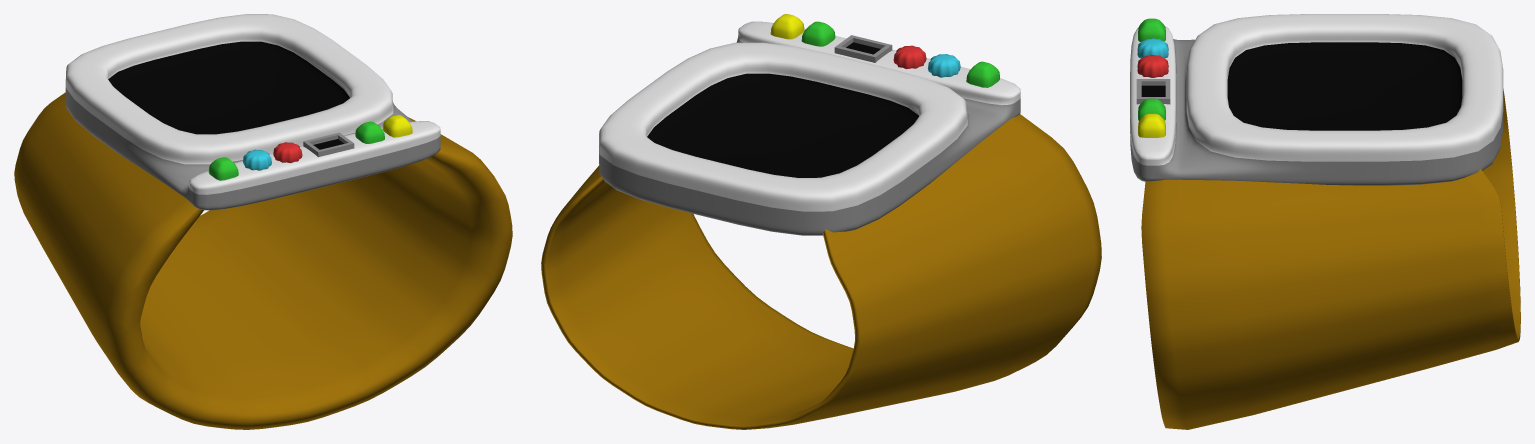
Rendered from ArmComputer.fbx.
3 views of the same model, side by side, from view 1: azimuth 30°, elevation 25°; view 2: azimuth 150°, elevation 25°; view 3: azimuth 270°, elevation 25° (orthographic). The views are drawn at different scales.
Visible parts, largest first — view 1: ArmPad; view 2: ArmPad; view 3: ArmPad.
Boxes of the visible parts, x1,y1,x2,y2 form: ArmPad: (14,14,512,429); ArmPad: (541,14,1101,429); ArmPad: (1130,14,1520,429).
Size of the model in its own units: 3.79 by 2.63 by 2.86.
